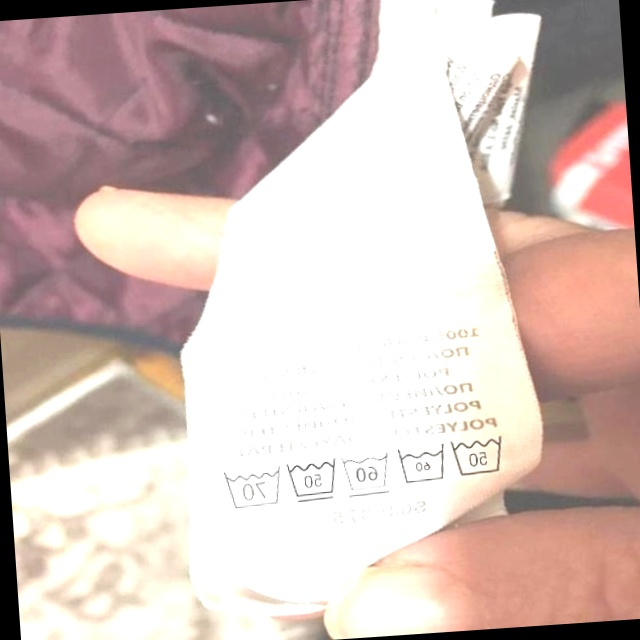50C: (446, 427, 511, 482), (282, 454, 341, 507)
60C: (337, 448, 393, 499), (393, 440, 450, 489)
70C: (217, 463, 284, 512)
